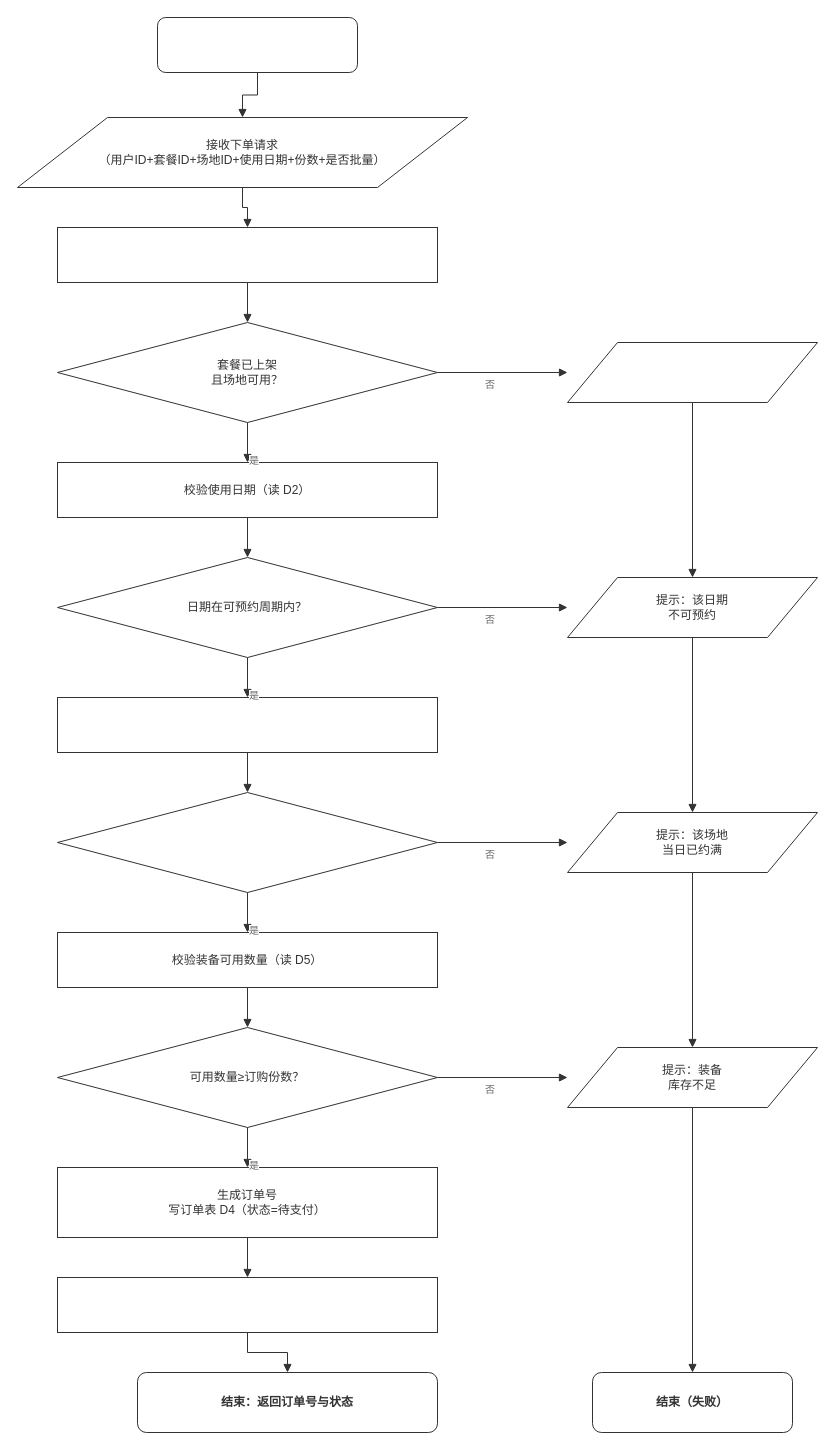
The diagram is 835 pixels wide and 1450 high, and some of its shapes have lost their labels. Each missing label, with the centre of its shape:
"写操作日志 D8" belongs at (x=247, y=1304).
"剩余容量≥订购份数？" belongs at (x=247, y=842).
"开始" belongs at (x=257, y=44).
"提示：套餐或 场地无效" belongs at (x=692, y=372).
"校验场地剩余容量（读 D3）" belongs at (x=247, y=724).
"读取套餐与场地信息（读 D2、D3）" belongs at (x=247, y=254).
